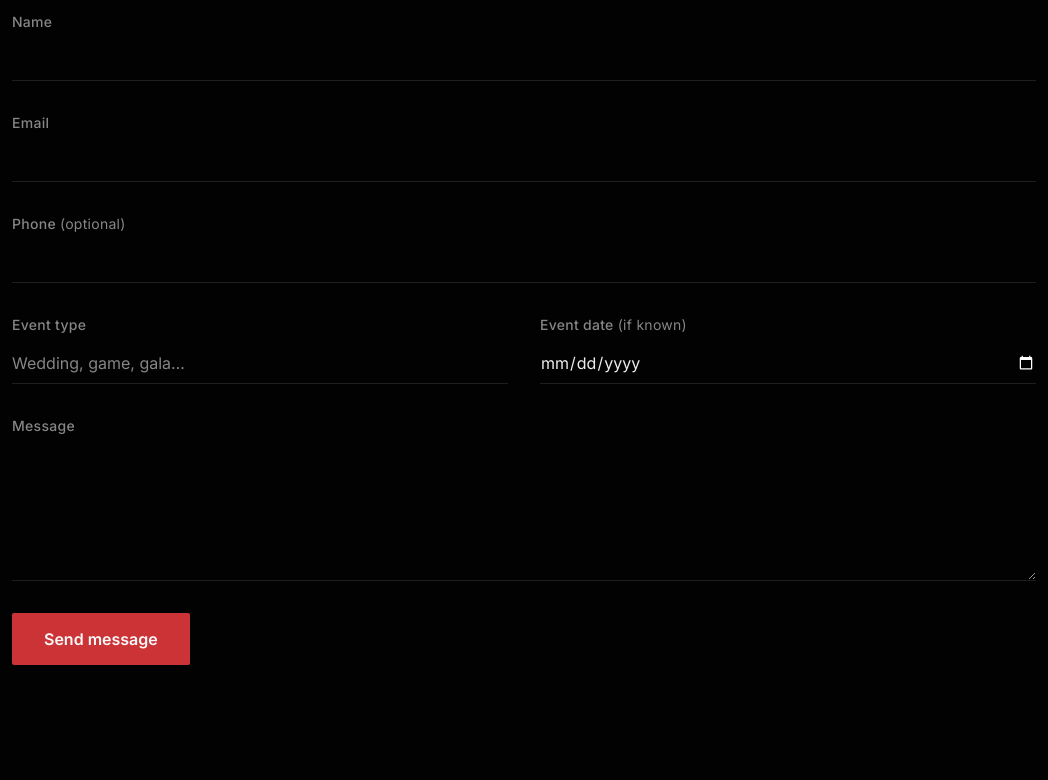
Test: ContactForm › shows an error message when submission fails
Type "Jane" into the field labelled "Name".
click(524, 60); type("Jane")  # box [12,40,1036,81]
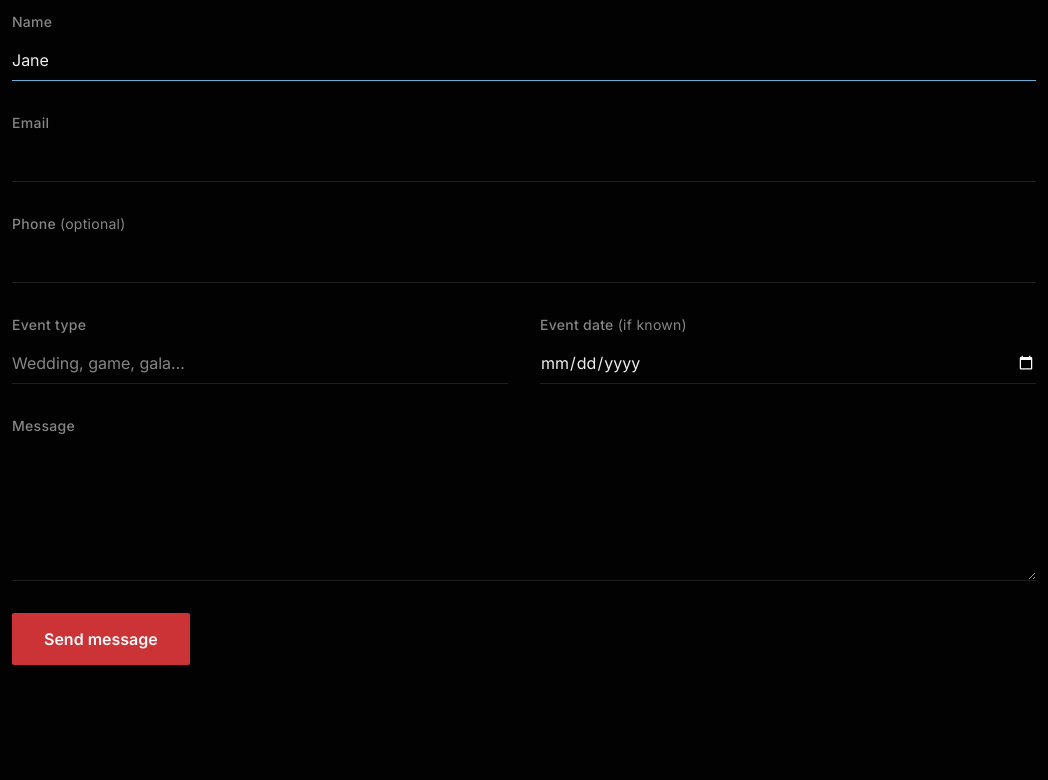
Type "jane@example.com" into the field labelled "Email".
click(524, 162); type("jane@example.com")  # box [12,141,1036,182]
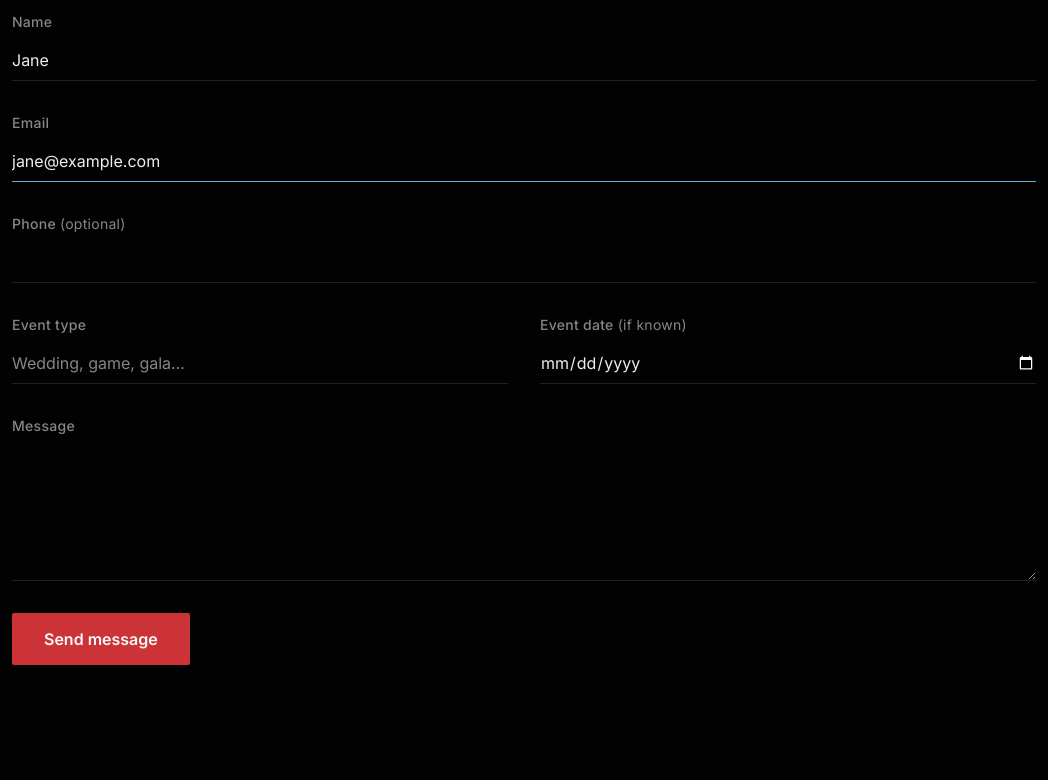
Type "Hi Andrew" into the text box labelled "Message".
click(524, 512); type("Hi Andrew")  # box [12,444,1036,581]
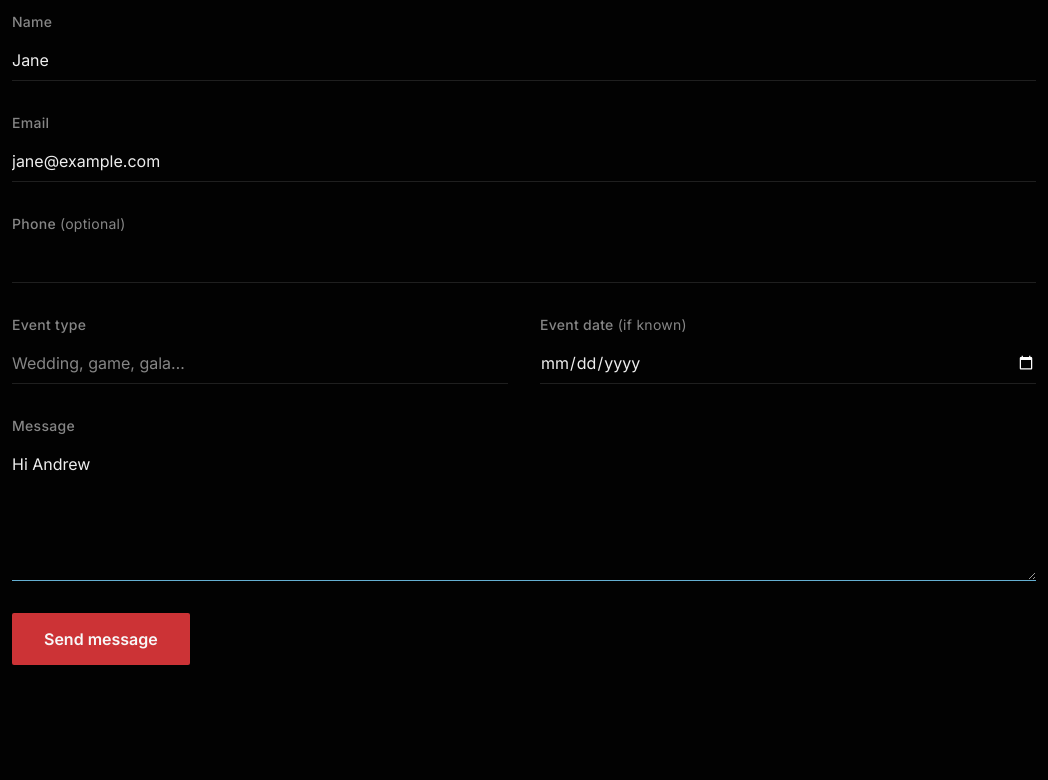
Click the button "Send message".
click(101, 639)  # box [12,613,190,665]
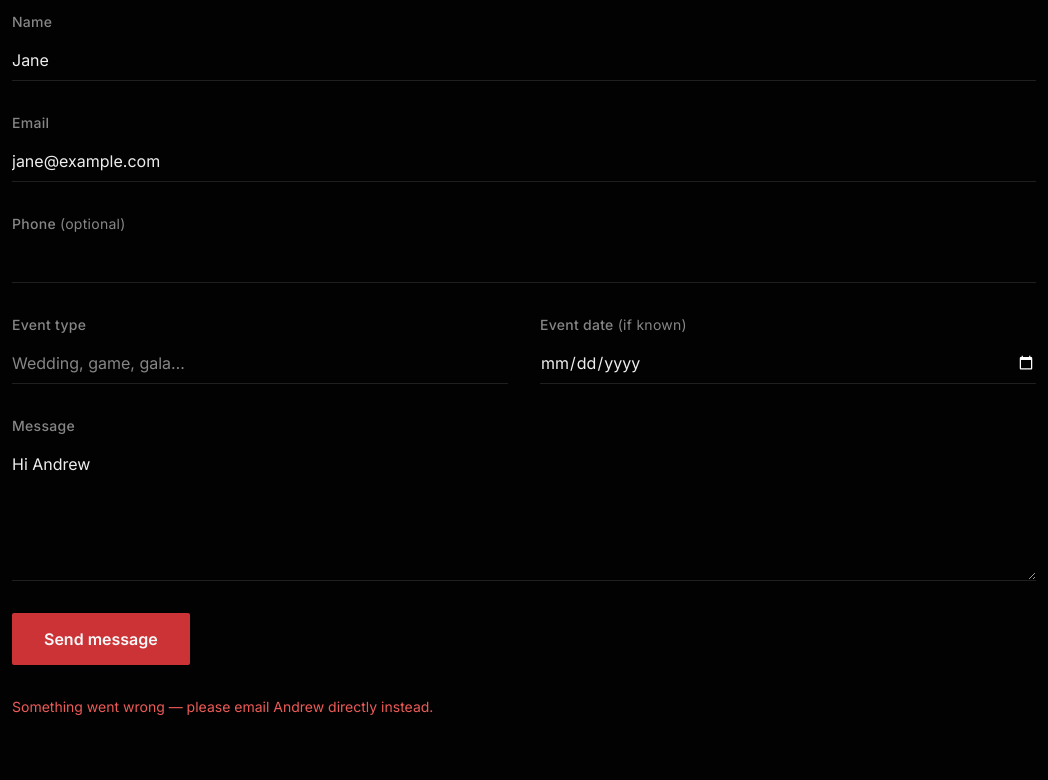
Check: the message "Something went wrong — please email Andrew directly instead." is shown, box [12,698,433,715]
